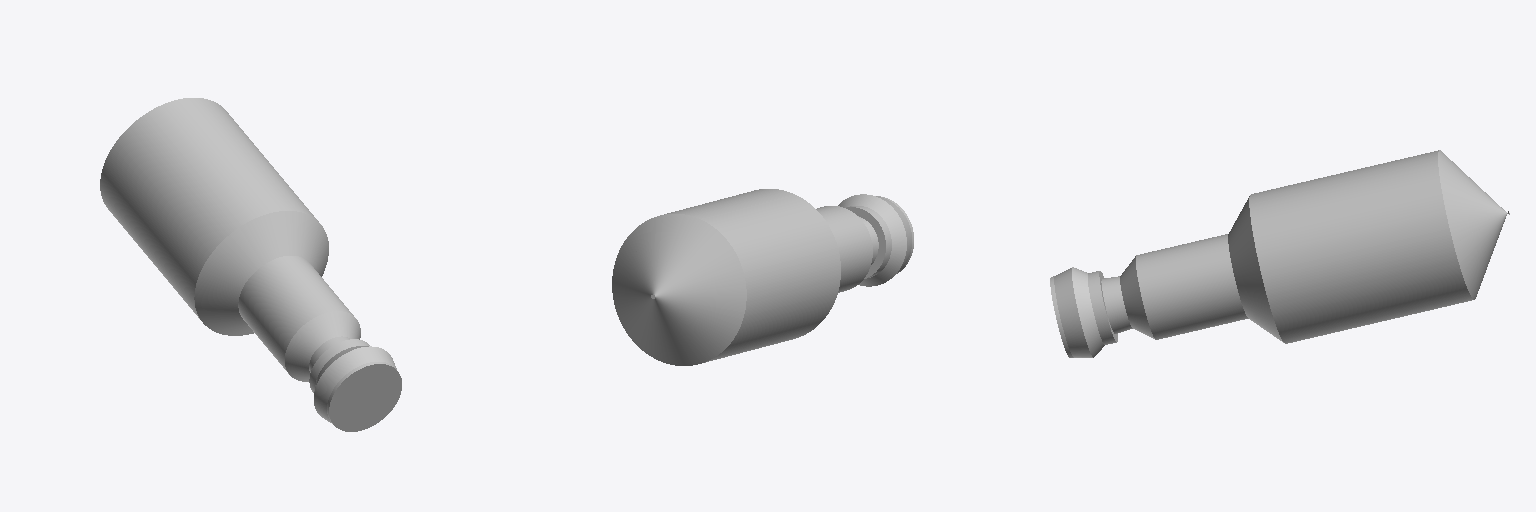
File: Piston.obj
3 renders of one model, left to right at view 1: azimuth 30°, elevation 25°; view 2: azimuth 150°, elevation 25°; view 3: azimuth 270°, elevation 25°, orthographic.
Parts seen in each view (by area): view 1: Cilindro.007; view 2: Cilindro.007; view 3: Cilindro.007.
Boxes of the visible parts, <box> form: Cilindro.007: <box>100,98,401,431</box>; Cilindro.007: <box>612,189,913,365</box>; Cilindro.007: <box>1050,150,1509,357</box>.
Bounding box in the file's own units: 0.1354 × 0.1913 × 0.4048.